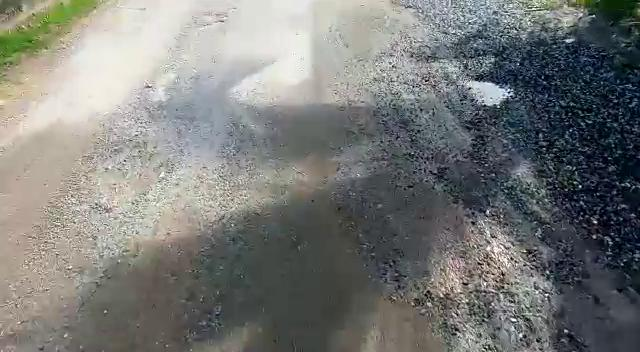pothole: (463, 77, 518, 107)
